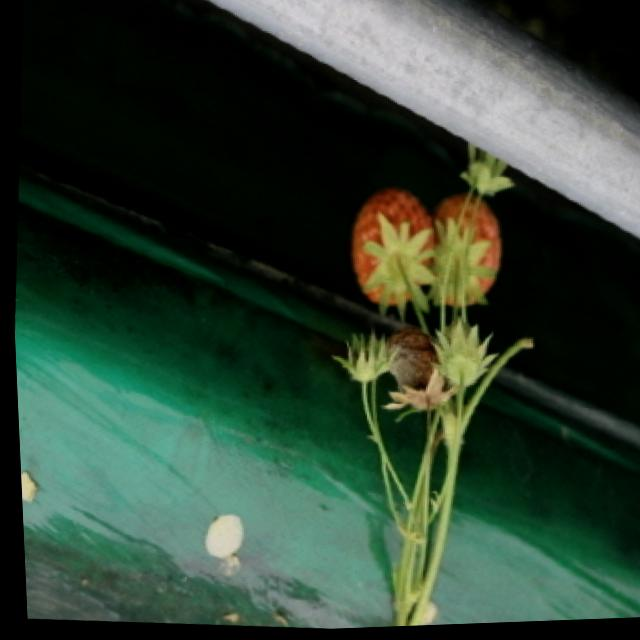Gray Mold: (375, 330, 448, 423)
